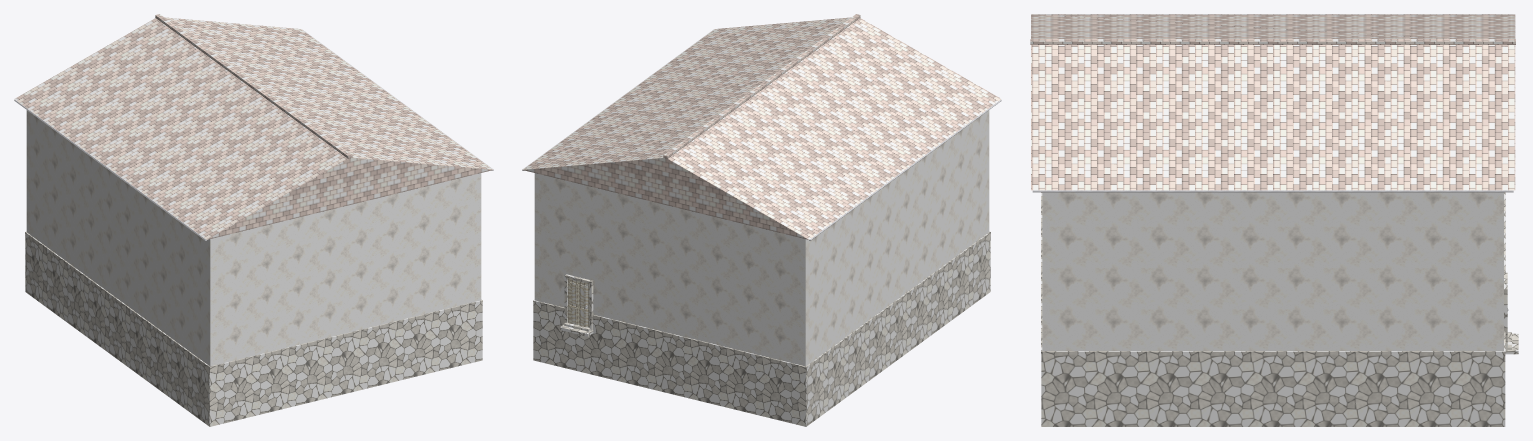
3 renders of one model, left to right at view 1: azimuth 30°, elevation 25°; view 2: azimuth 150°, elevation 25°; view 3: azimuth 270°, elevation 25°, orthographic. The views are drawn at different scales.
Parts seen in each view (by area): view 1: b1088806834; view 2: b1088806834; view 3: b1088806834.
Boxes of the visible parts, bbox=[...] form: b1088806834: bbox=[14, 14, 493, 426]; b1088806834: bbox=[522, 14, 1001, 426]; b1088806834: bbox=[1030, 14, 1518, 426].
Bounding box in the file's own units: 12.86 × 10.26 × 14.98.
11 materials, 11 textured.
